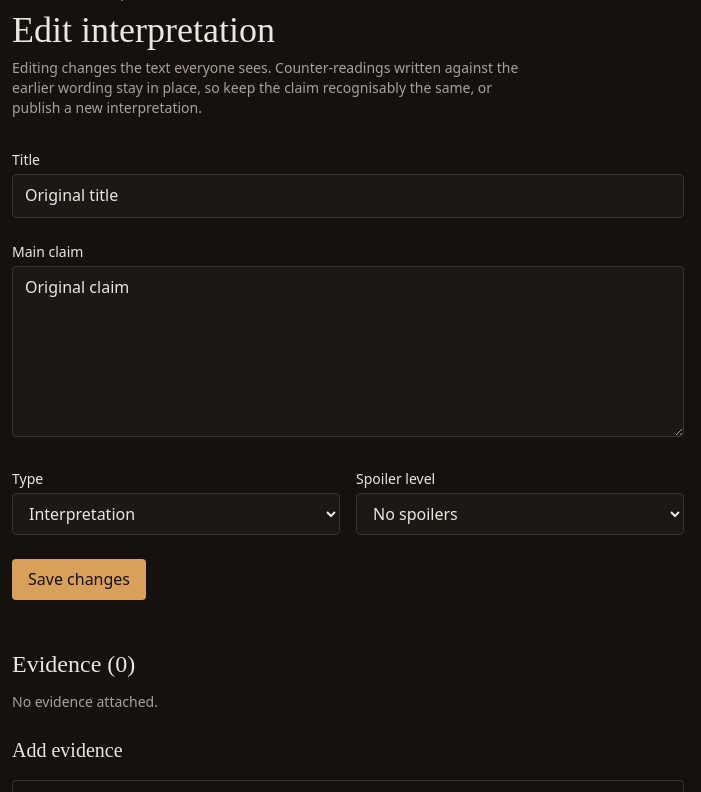
edit page › appends added evidence without discarding unsaved edits
Type " (draft)" into the field labelled "Title" at (348, 196), box [12,174,684,218]
(page scrolled)
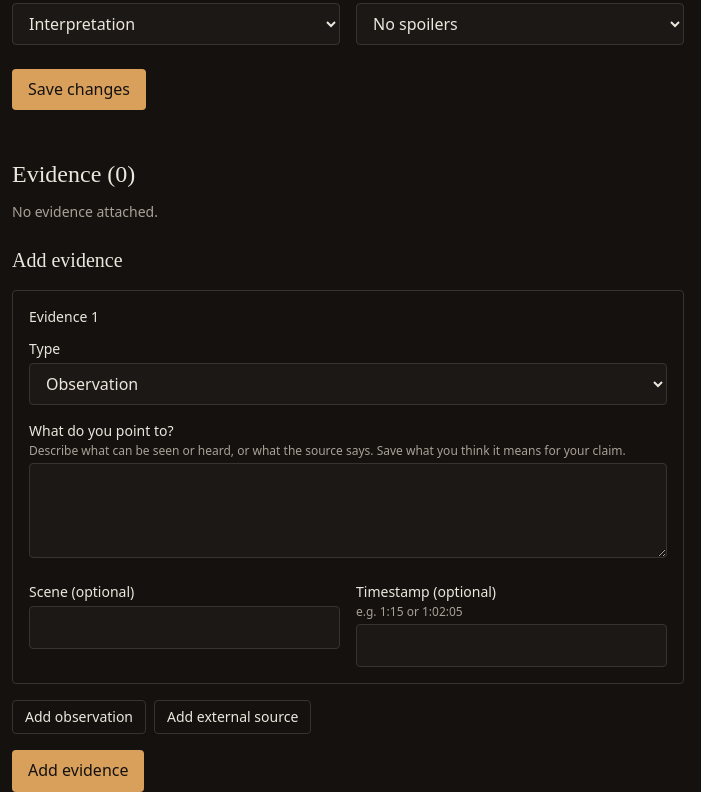
Type "New observation" into the text box labelled "What do you point to?" at (348, 511), box [29,463,667,558]
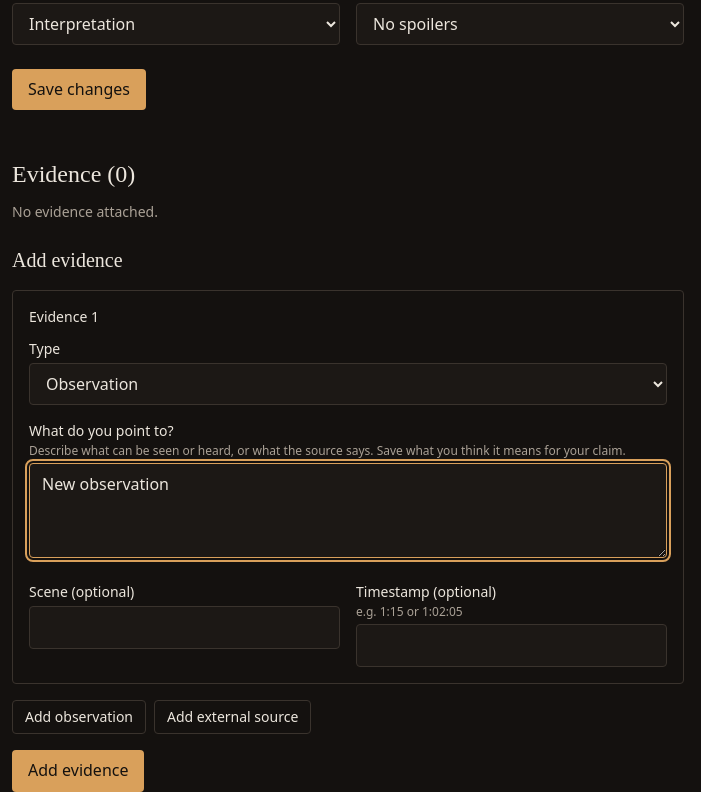
Click the button "Add evidence" at (78, 771), box [12,750,144,791]
(page scrolled)
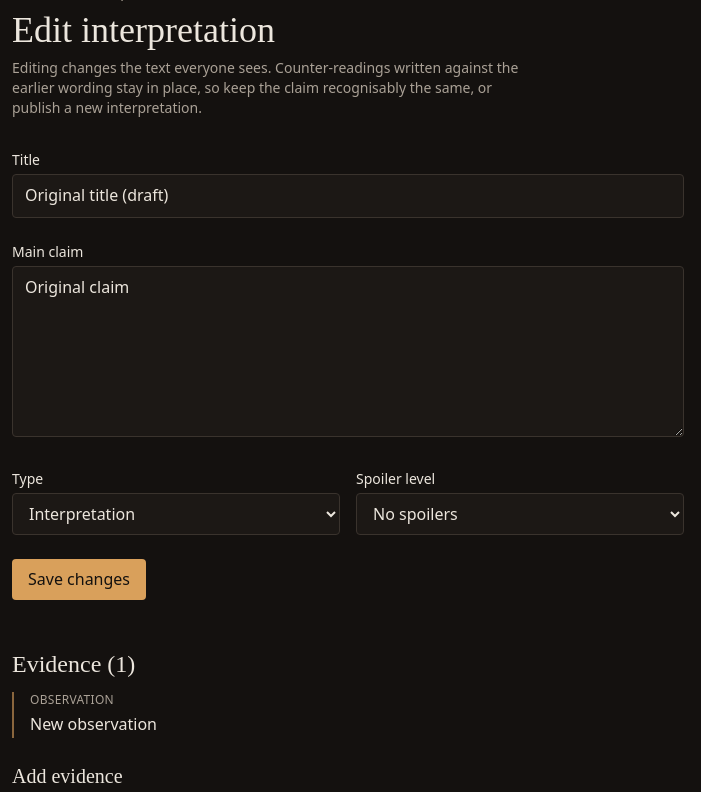
Now the field labelled "Title" holds "Original title (draft)", box [12,174,684,218]
Now the heading "Evidence (1)" is shown, box [12,651,135,677]
